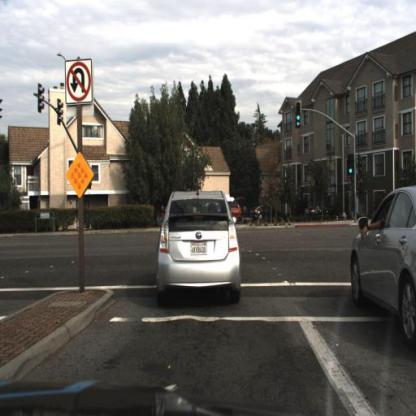car: (138, 172, 250, 330), (148, 183, 258, 305), (351, 190, 416, 332), (252, 203, 287, 224), (305, 202, 335, 223), (229, 197, 243, 230)
trafficLight: (295, 98, 305, 131), (347, 150, 357, 177)
